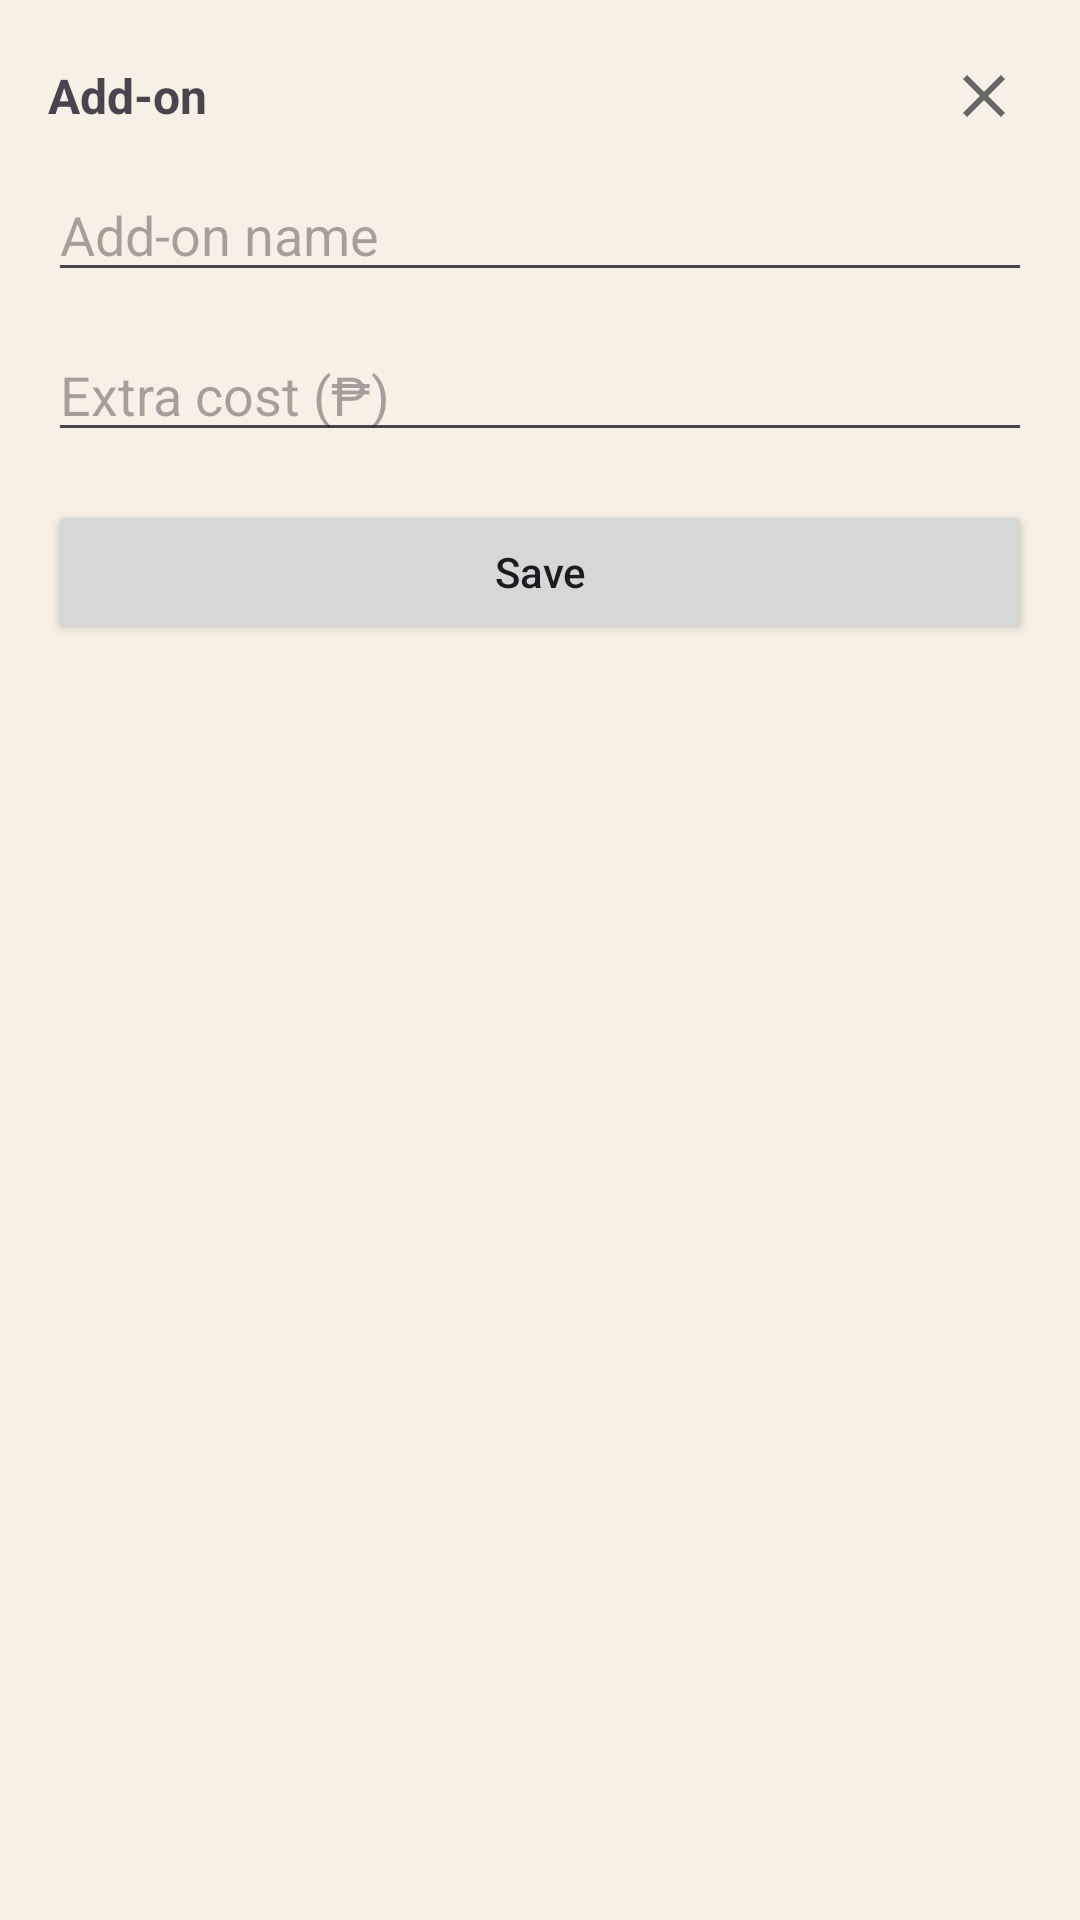

Where icons sit on this 1080px x 1920px app screen, as (x1, y1, x2, y2):
Close: (963, 75, 1005, 117)
